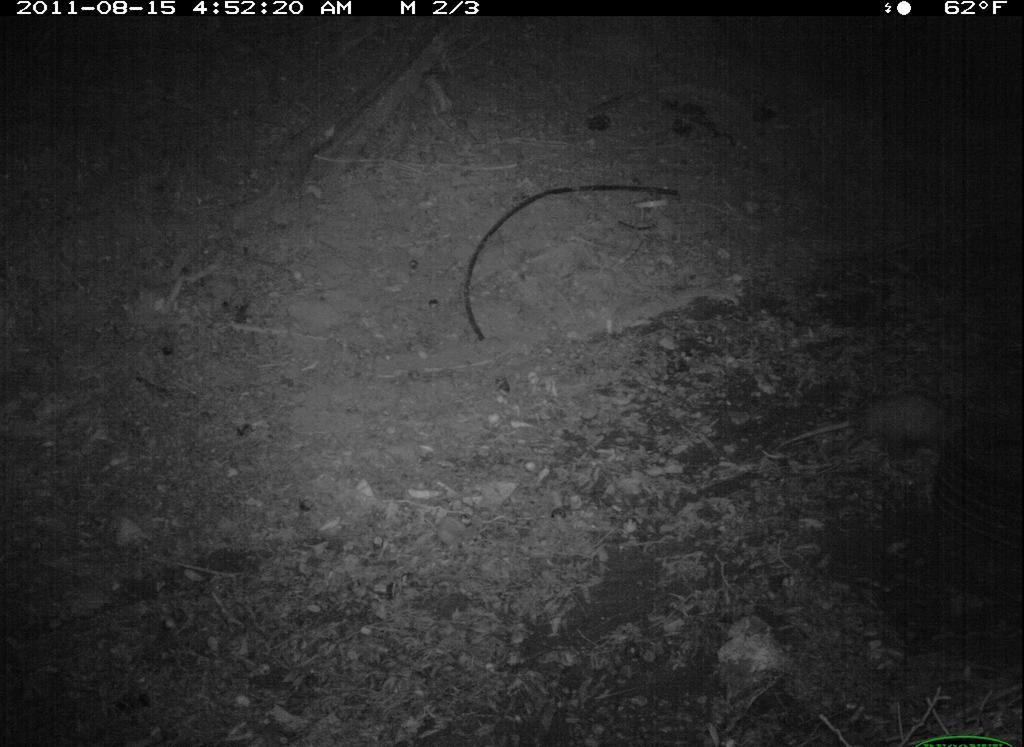opossum: (745, 385, 986, 474)
